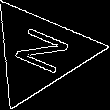N_SE: (5, 24, 75, 81)
